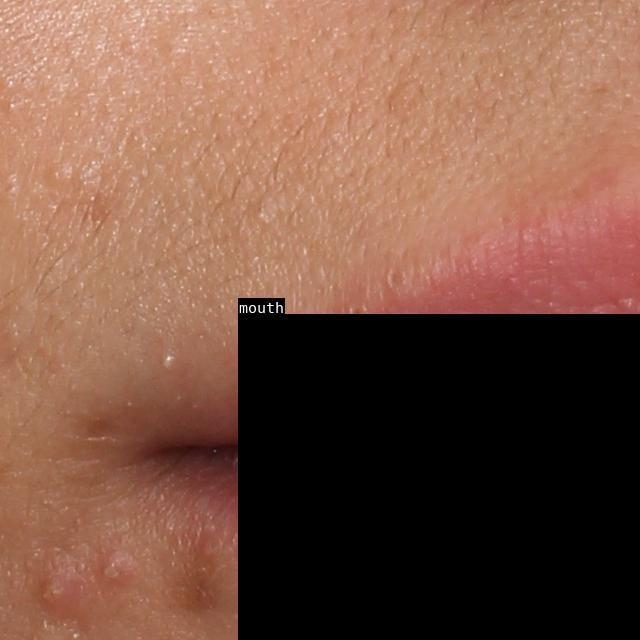comedo: (42, 159, 71, 192)
papule: (100, 554, 131, 587)
pustule: (160, 351, 179, 375)
